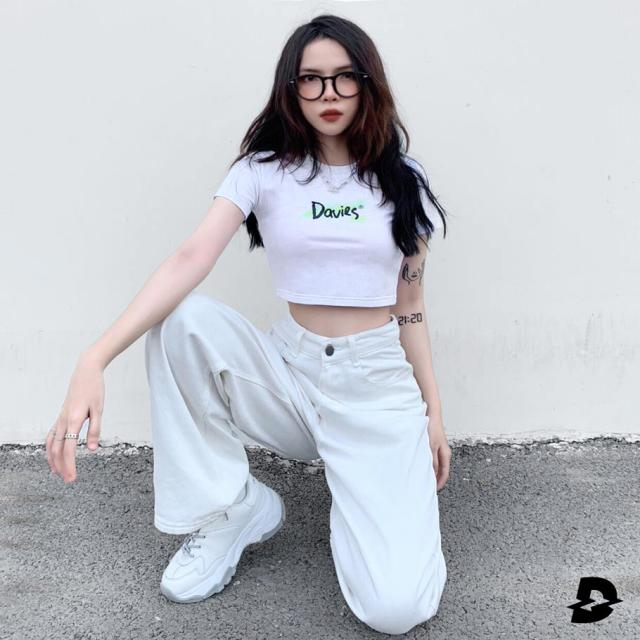clothes: (142, 134, 473, 629)
